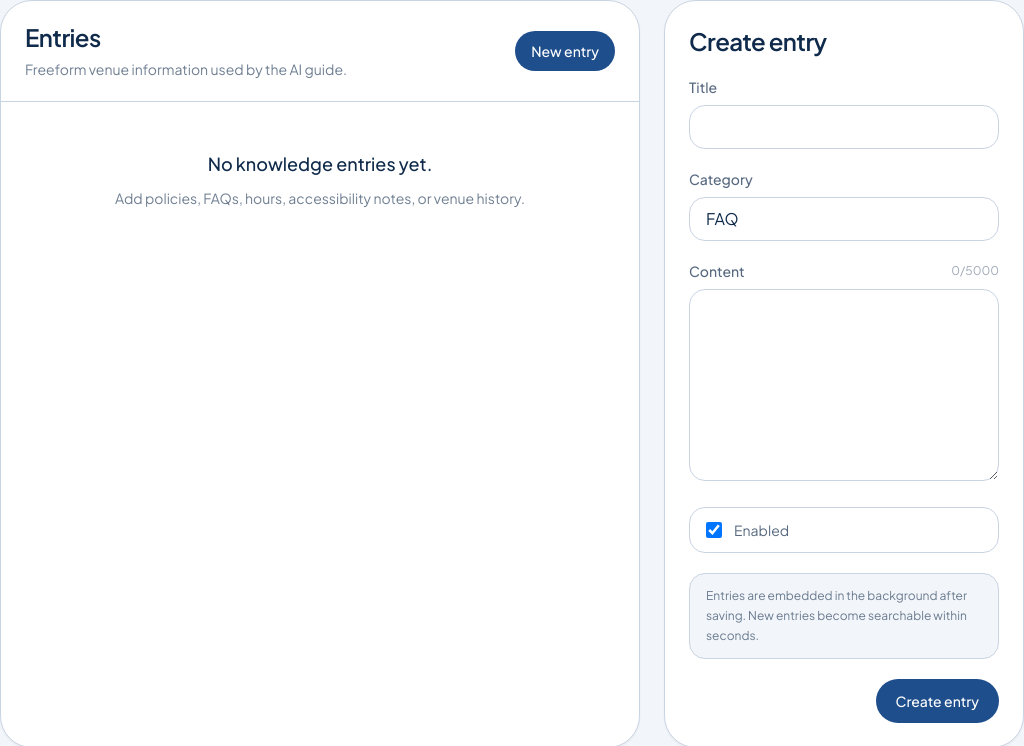
Test case: KnowledgeManager › keeps failed form input and exposes mutation errors as an alert
The width and height of the screenshot is (1024, 746).
In the field labelled "Title": (844, 127) [689,105,999,149], type "Keep this title"
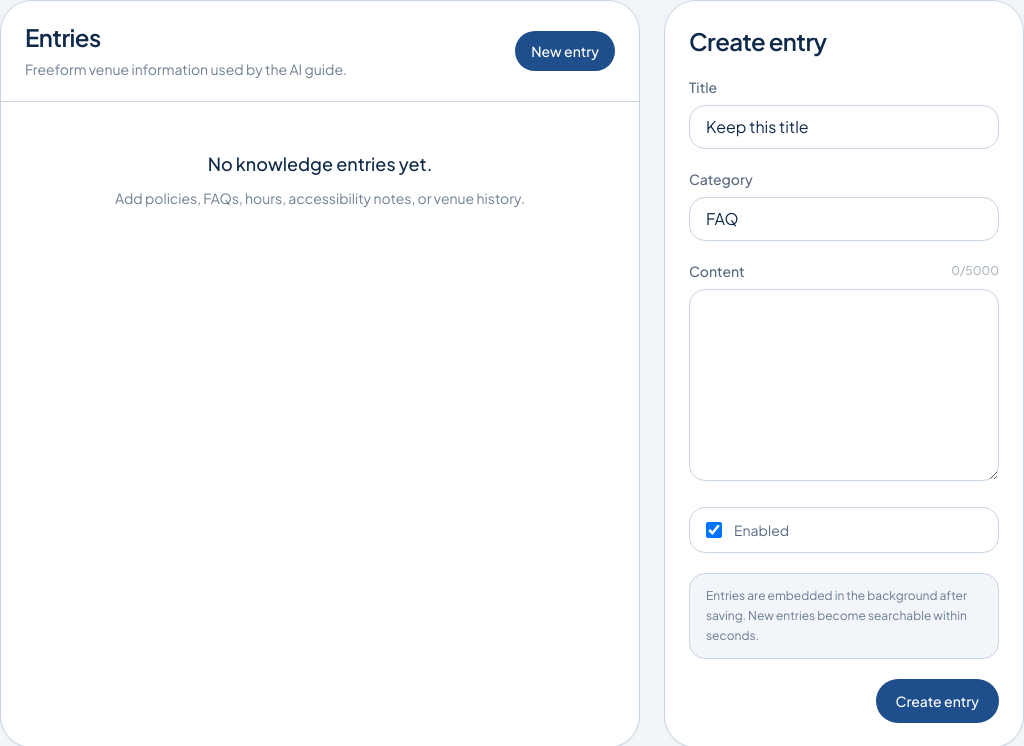
In the text box labelled "Content": (844, 385) [689,289,999,481], type "Keep this content"
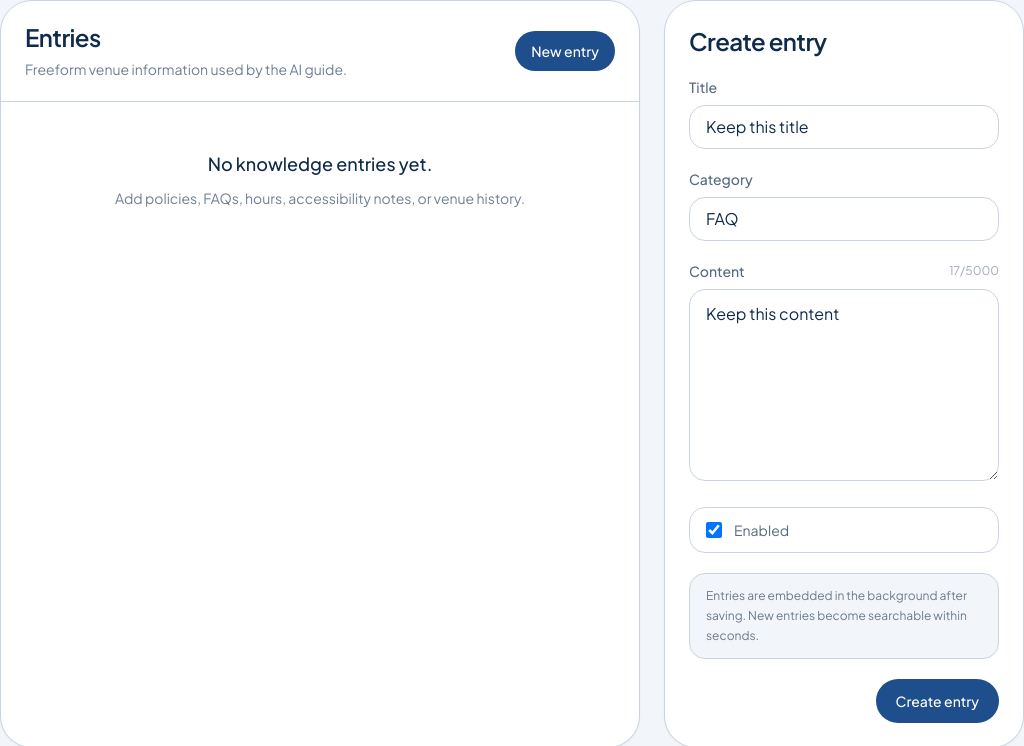
Click the button "Create entry": click(937, 701) [876,679,999,723]
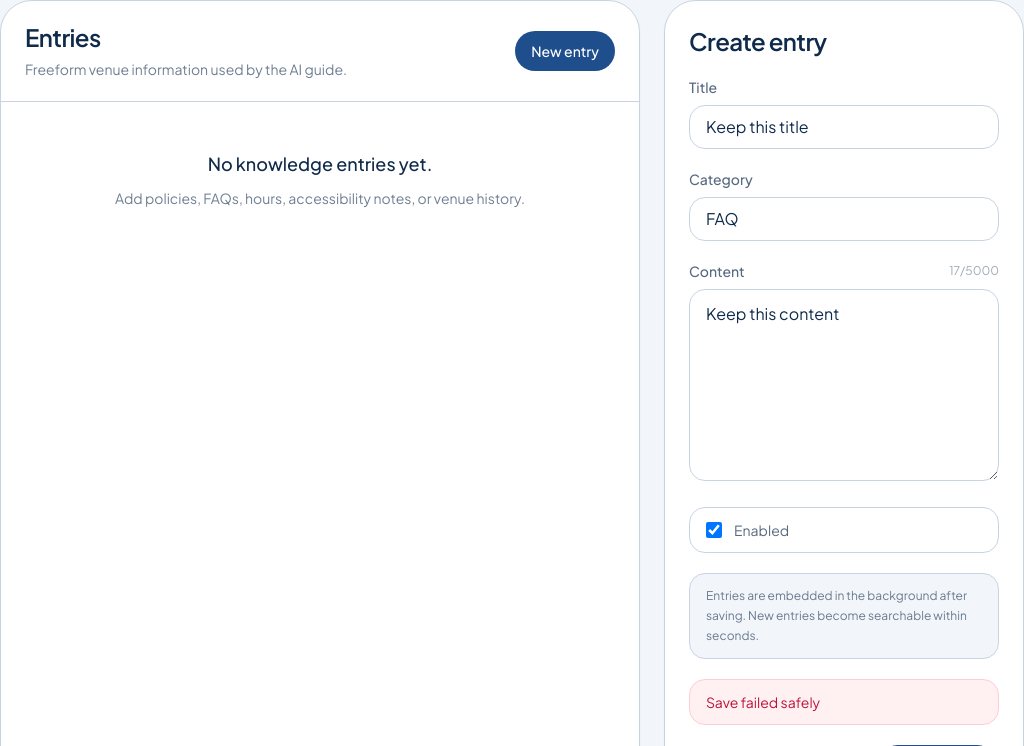
expect the message reads "Save failed safely": met, box [706,693,820,711]
